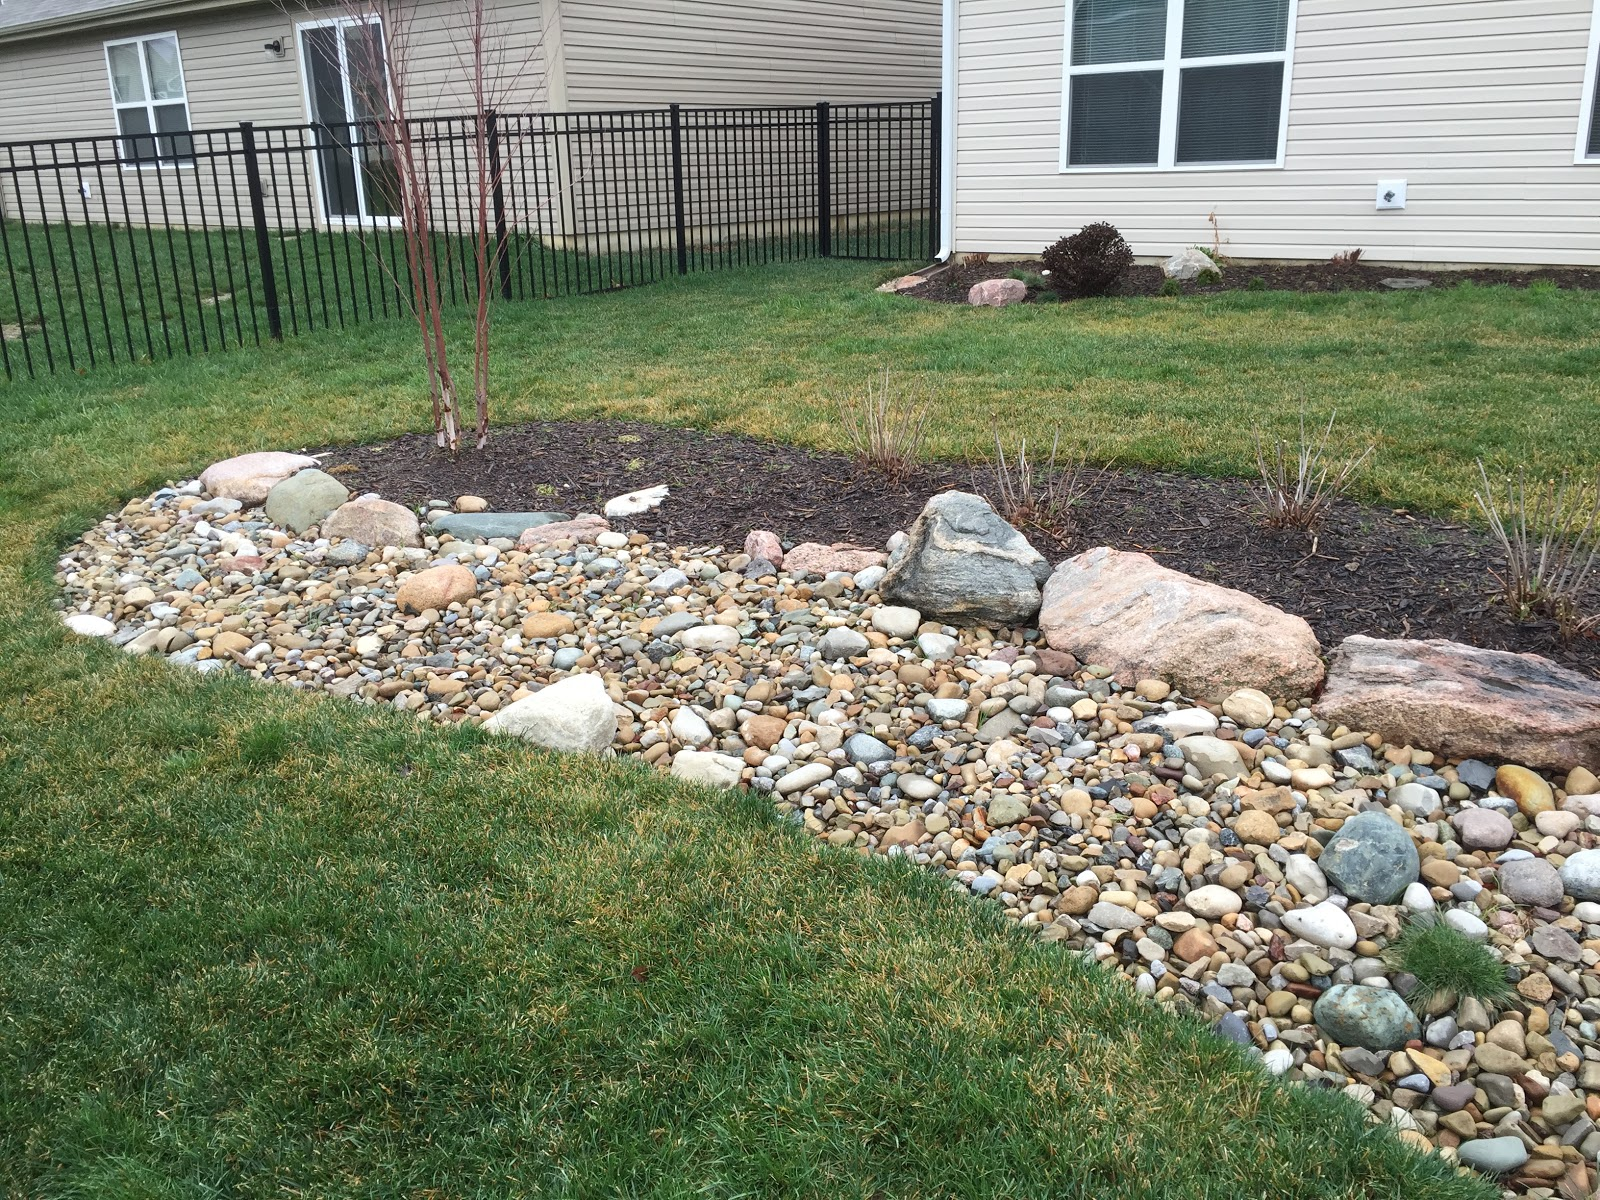dirt: (331, 408, 1592, 663)
grass: (3, 626, 1499, 1197), (8, 270, 1587, 492)
rock: (59, 402, 1594, 1186)
tree: (409, 246, 498, 453)
